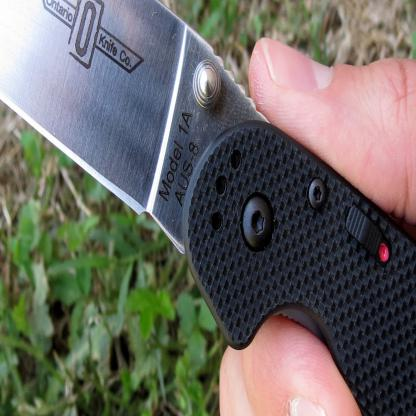knife: (0, 0, 407, 416)
